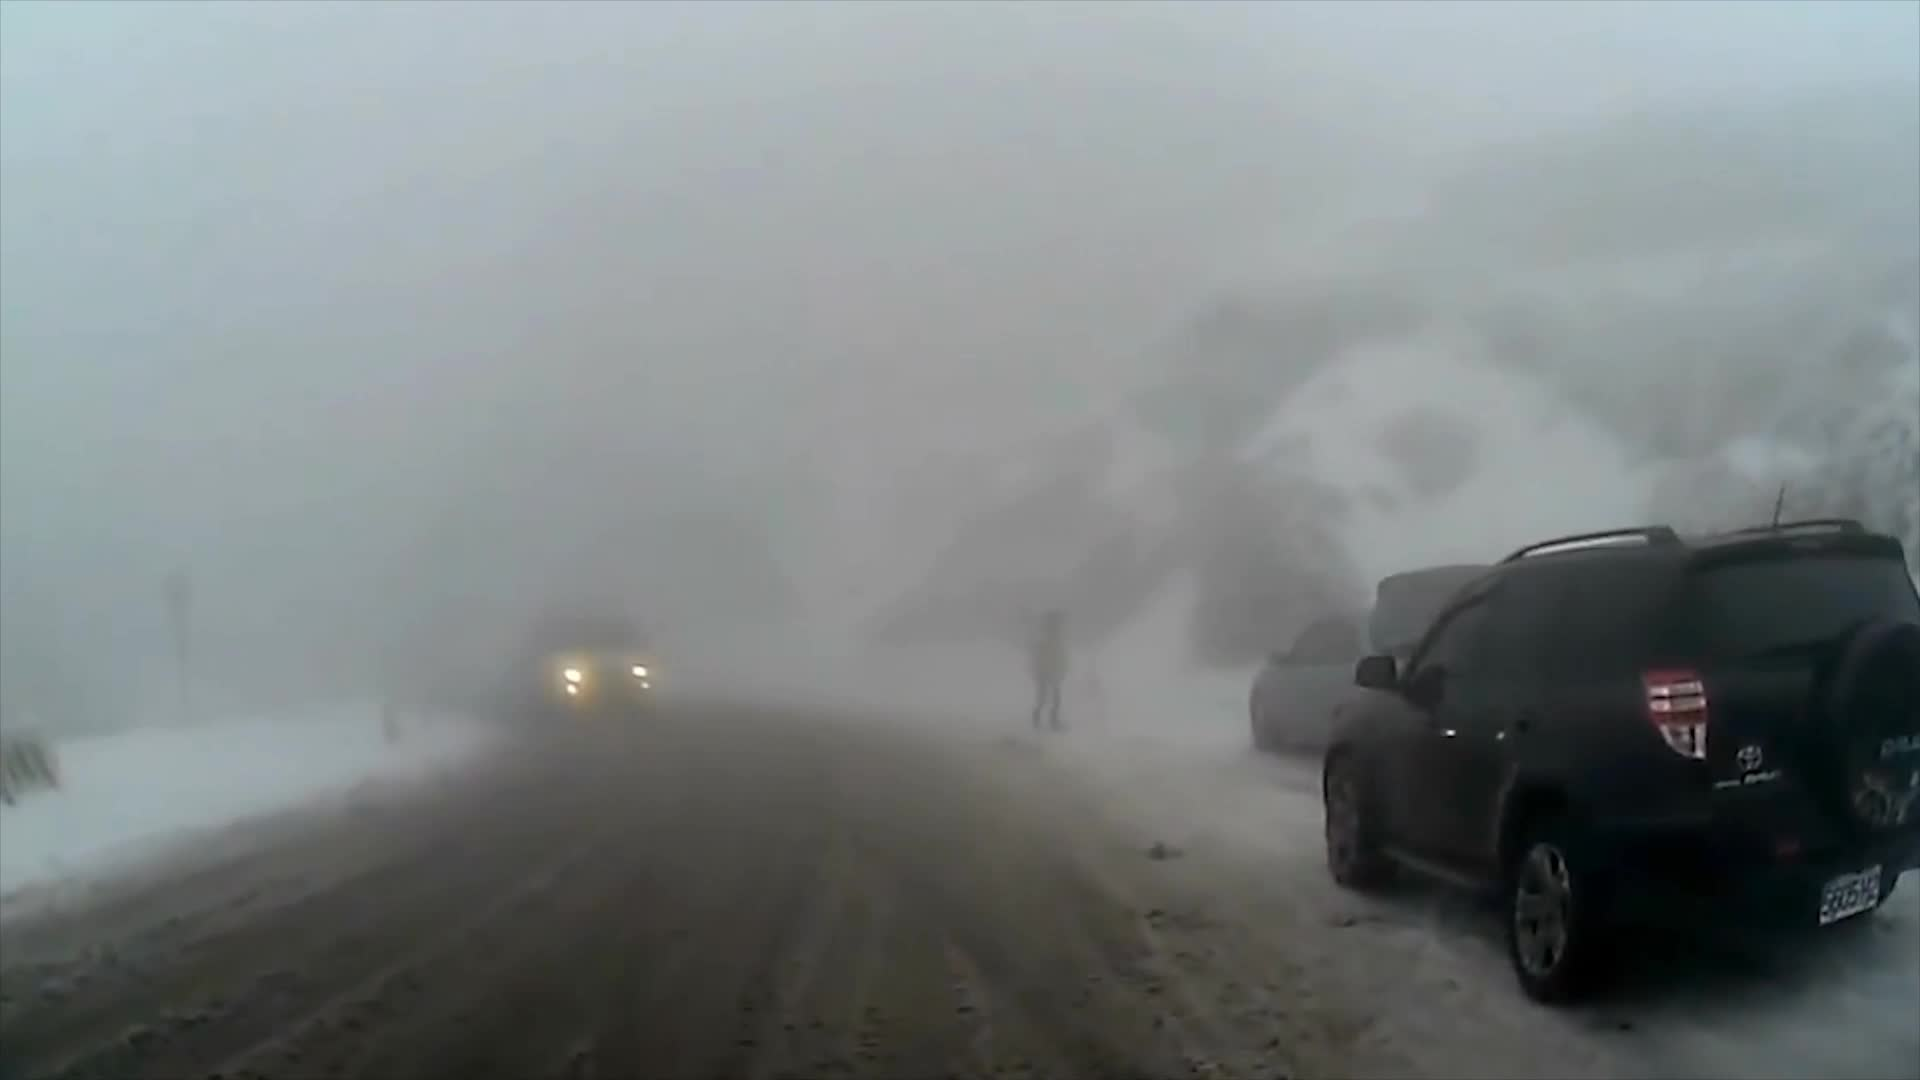pedestrian: (1025, 615, 1068, 728)
vehicle: (1318, 512, 1918, 1011), (1246, 556, 1561, 771), (526, 605, 659, 725)
